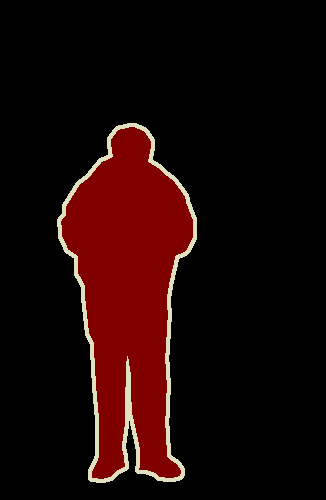person: (60, 127, 194, 482)
person/foot: (140, 456, 182, 481), (91, 455, 124, 480)
person/hand: (114, 200, 141, 225), (113, 210, 130, 228)
person/head: (112, 128, 152, 163)
